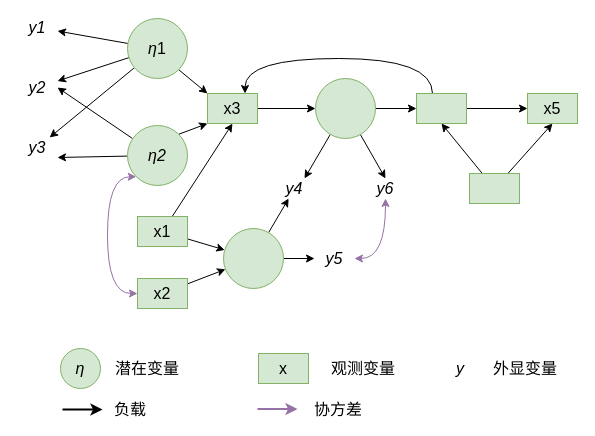
Image size: 595x436. Some labels were removed from this diagram. The centre of each missing label's shape, as x and y in pixels:
"x4" goes at point 441,108.
"x6" goes at point 494,188.
"η 3" goes at point 253,258.
"η 4" goes at point 345,108.
